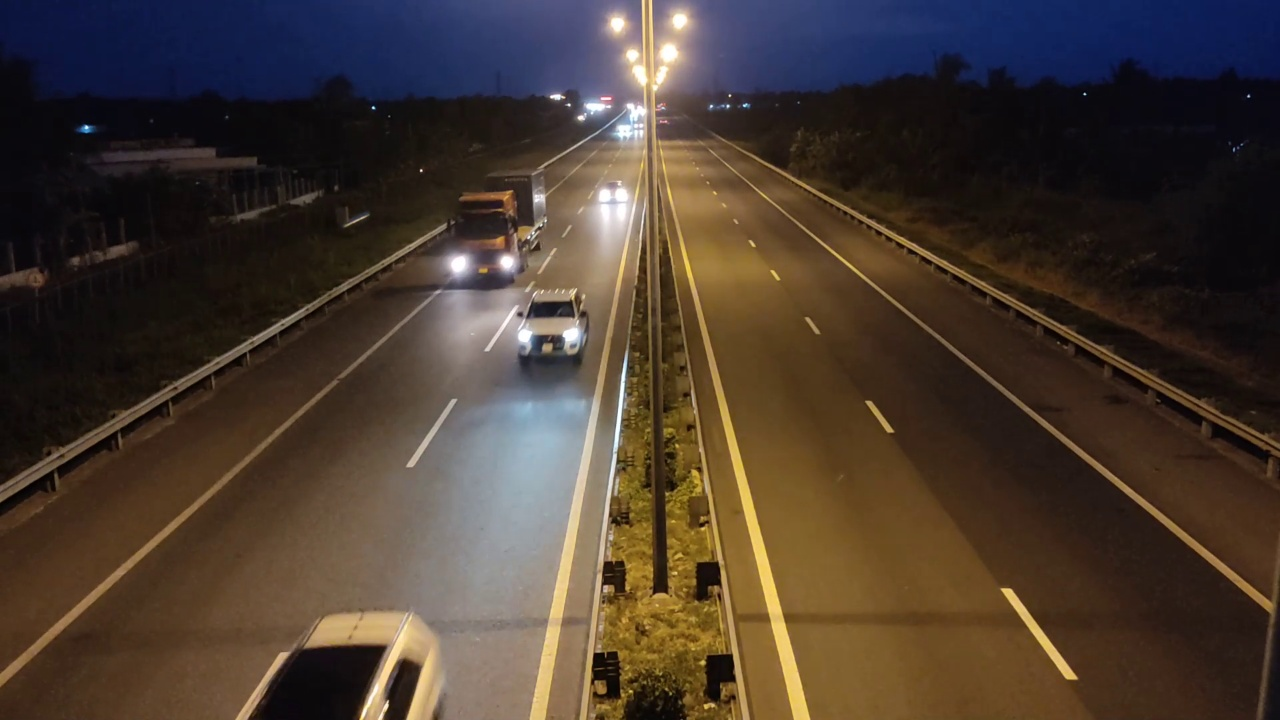car: (237, 607, 447, 719), (517, 280, 592, 371)
truck: (442, 168, 547, 293)
